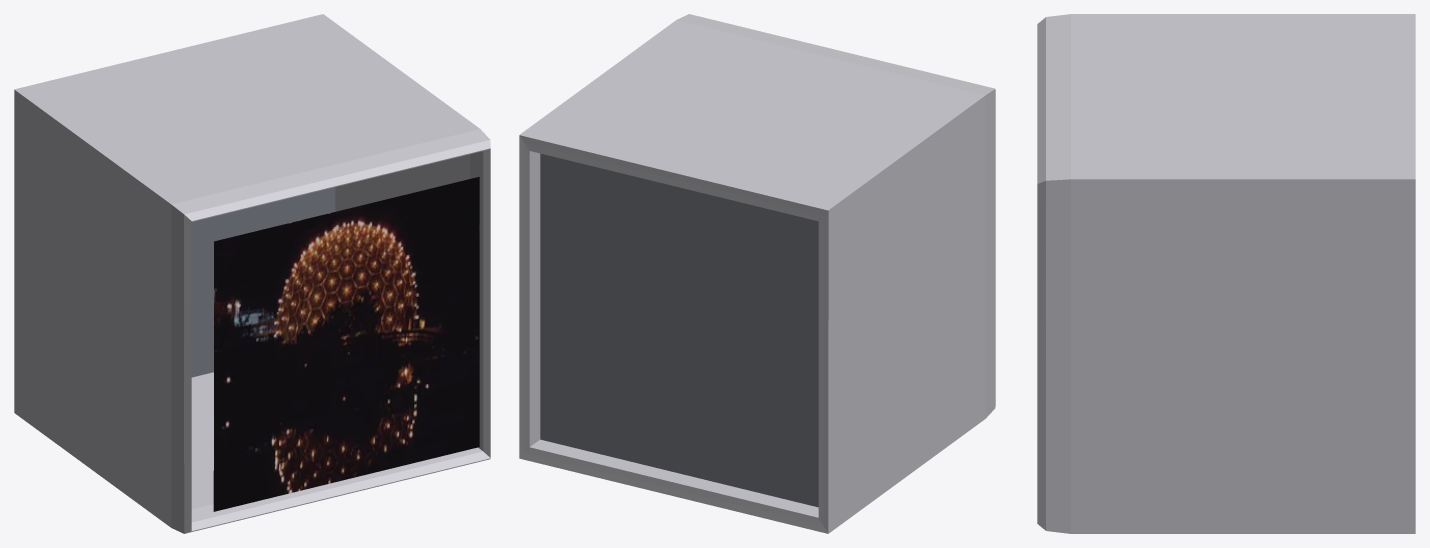
The model's file is sh-contrib-toronto-ontario-place-frame.glb.
The picture shows the model from 3 angles, left to right: view 1: azimuth 30°, elevation 25°; view 2: azimuth 150°, elevation 25°; view 3: azimuth 270°, elevation 25°; orthographic projection. The views are drawn at different scales.
Visible parts, largest first — view 1: MetalFrame_Cylinder_Aluminium.011, Photo_Cube_Material_TorontoOntarioPlace.j, Frame_Black_Material.014; view 2: MetalFrame_Cylinder_Aluminium.011, Frame_Black_Material.014; view 3: MetalFrame_Cylinder_Aluminium.011.
Part boxes in pixels (x1,y1,x2,y2): MetalFrame_Cylinder_Aluminium.011: (14,14,490,533); Photo_Cube_Material_TorontoOntarioPlace.j: (213,176,479,511); Frame_Black_Material.014: (191,187,335,377); MetalFrame_Cylinder_Aluminium.011: (519,14,995,533); Frame_Black_Material.014: (540,153,826,507); MetalFrame_Cylinder_Aluminium.011: (1037,14,1415,533).
Bounding box in the file's own units: 1 × 1 × 1.
Materials: 3 (1 with a texture image).
